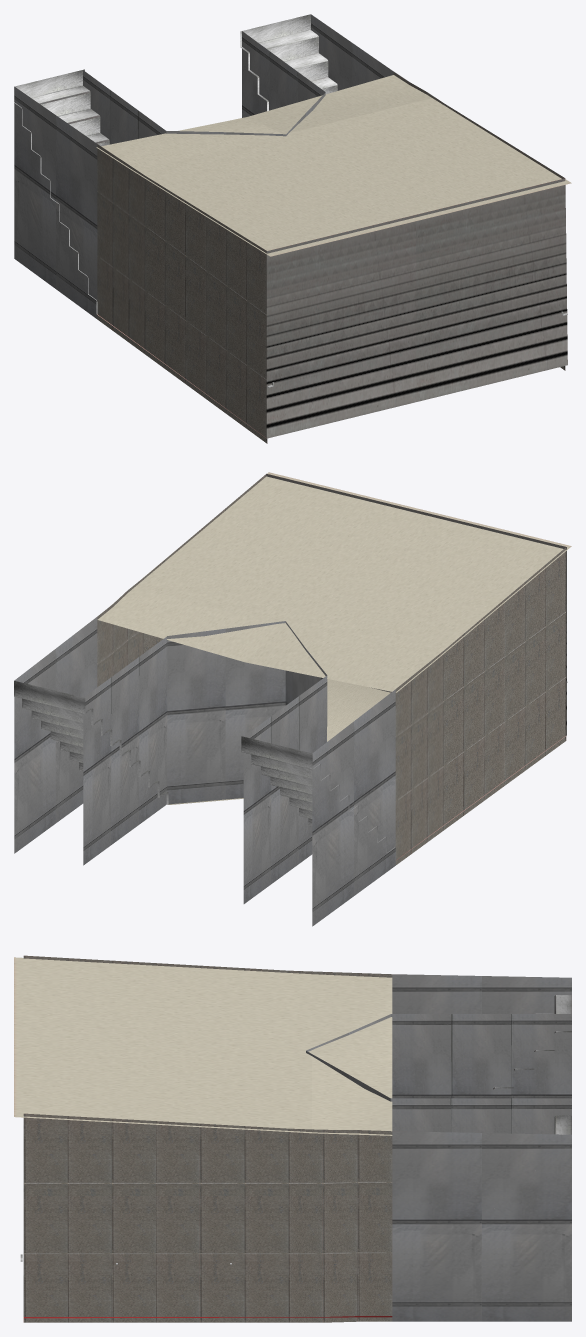
Rendered from ESTADIO_baquilloStairs.FBX.
3 renders of one model, top to bottom at view 1: azimuth 30°, elevation 25°; view 2: azimuth 150°, elevation 25°; view 3: azimuth 270°, elevation 25°, orthographic. The views are drawn at different scales.
Visible parts, largest first — view 1: stairs; view 2: stairs; view 3: stairs.
Part boxes in pixels (x1,y1,x2,y2): stairs: (14,14,571,443); stairs: (14,472,571,926); stairs: (14,955,571,1322).
Bounding box in the file's own units: 570 × 348 × 840.
